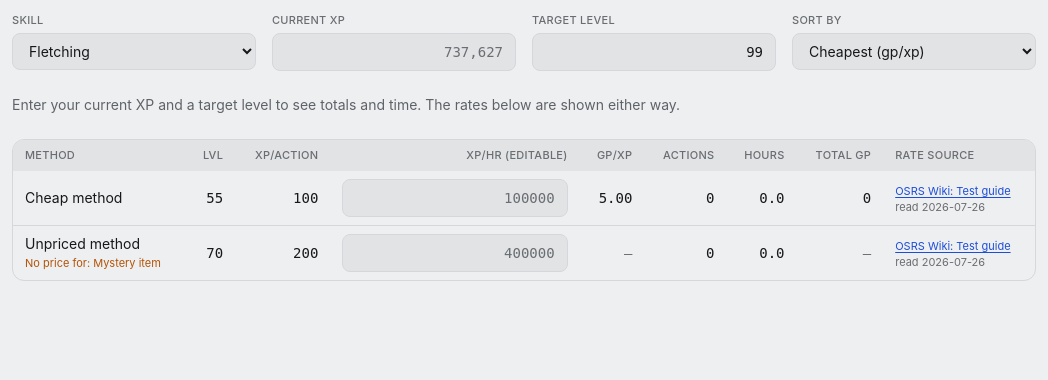
Test case: TrainingMethodComparator › accepts shorthand in the rate override
Type "12034431" into the field labelled "Current XP" at (394, 52), box top-left (272, 32), bottom-right (516, 70)
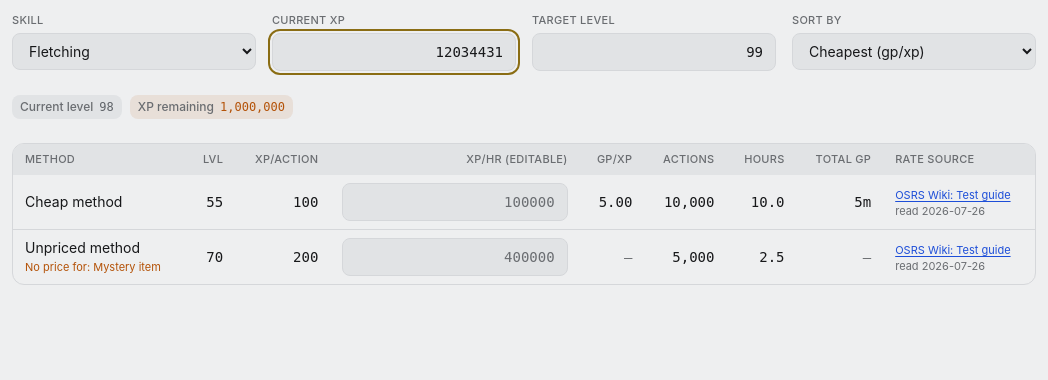
Type "250k" into the field named "XP per hour for Cheap method" at (455, 202), box top-left (342, 183), bottom-right (568, 221)
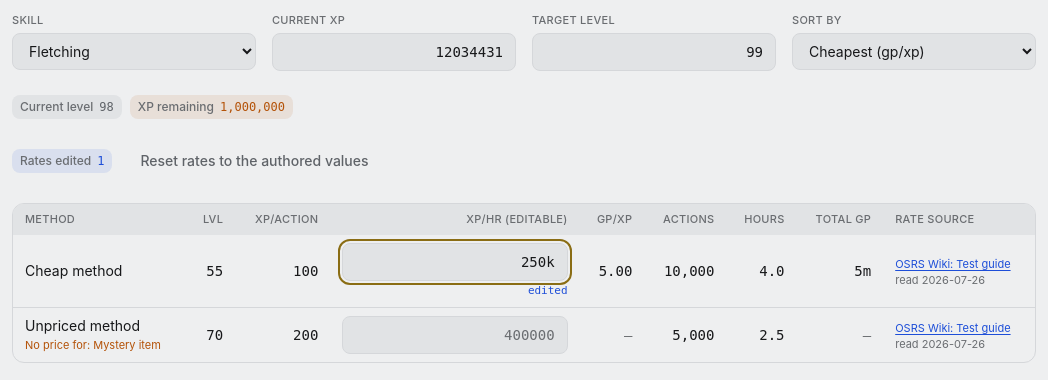
Expected: the text "4.0" is shown, top-left (726, 235), bottom-right (797, 307)
